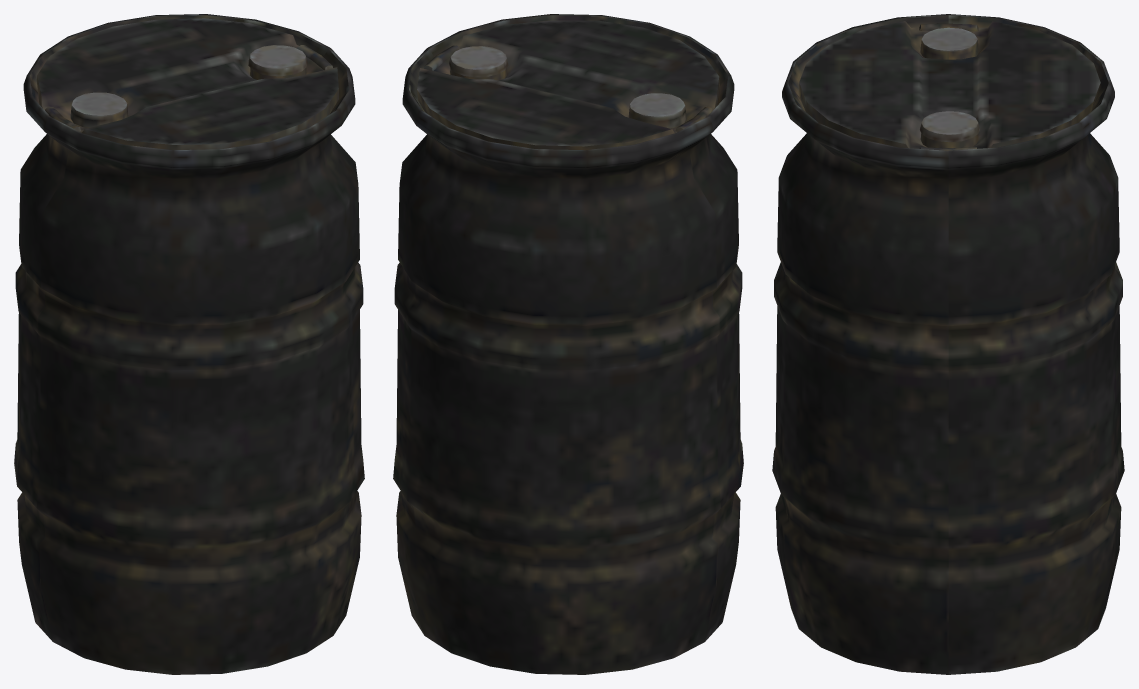
The model's file is sm22_048_cylinderplastictank01a.fbx.
3 renders of one model, left to right at view 1: azimuth 30°, elevation 25°; view 2: azimuth 150°, elevation 25°; view 3: azimuth 270°, elevation 25°, orthographic.
Parts seen in each view (by area): view 1: LOD_1_Group_0_Sub_1__sm22_048_CylinderPlasticTank01A_A_Mat; view 2: LOD_1_Group_0_Sub_1__sm22_048_CylinderPlasticTank01A_A_Mat; view 3: LOD_1_Group_0_Sub_1__sm22_048_CylinderPlasticTank01A_A_Mat.
Boxes of the visible parts, left/top/right/bottom form: LOD_1_Group_0_Sub_1__sm22_048_CylinderPlasticTank01A_A_Mat: left=14, top=14, right=364, bottom=674; LOD_1_Group_0_Sub_1__sm22_048_CylinderPlasticTank01A_A_Mat: left=393, top=14, right=743, bottom=674; LOD_1_Group_0_Sub_1__sm22_048_CylinderPlasticTank01A_A_Mat: left=772, top=14, right=1124, bottom=674.
Bounding box in the file's own units: 0.5424 × 0.8985 × 0.5424.
